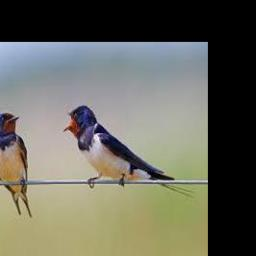Swallow: (61, 105, 195, 197), (0, 110, 31, 218)
